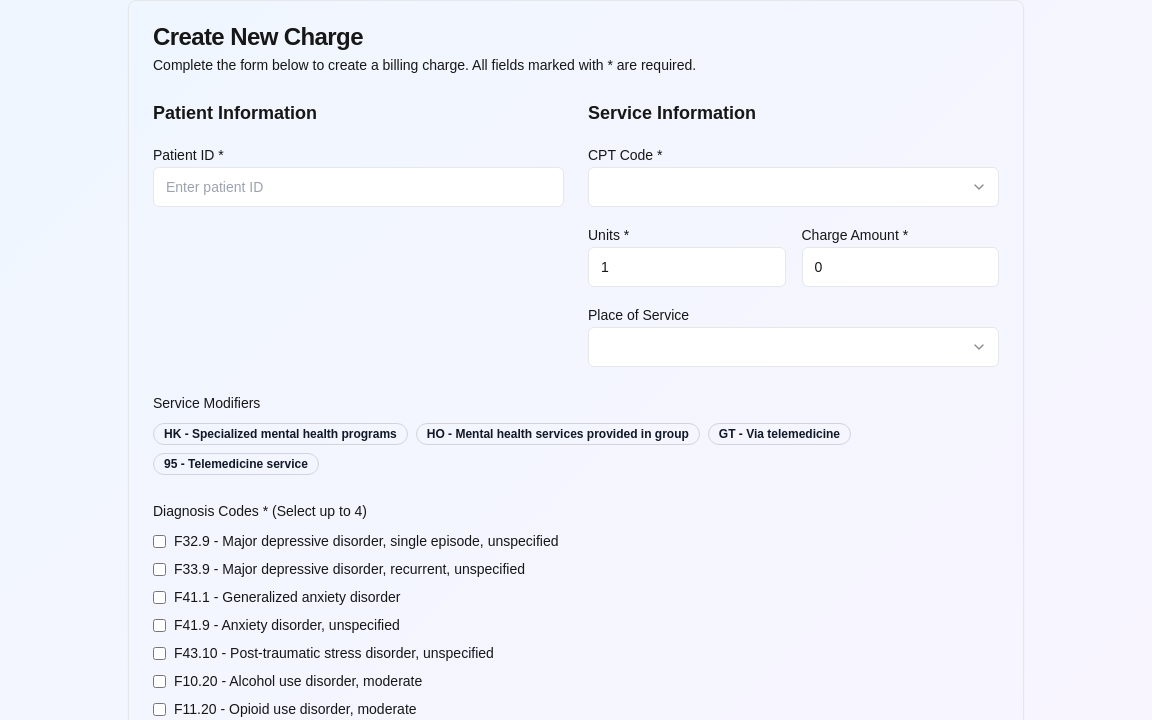
Scenario: ChargeForm › Form Interactions › limits diagnosis codes to maximum of 4
Click the checkbox labelled "F32.9". click: {"x": 160, "y": 542}
box: [153,535,166,548]
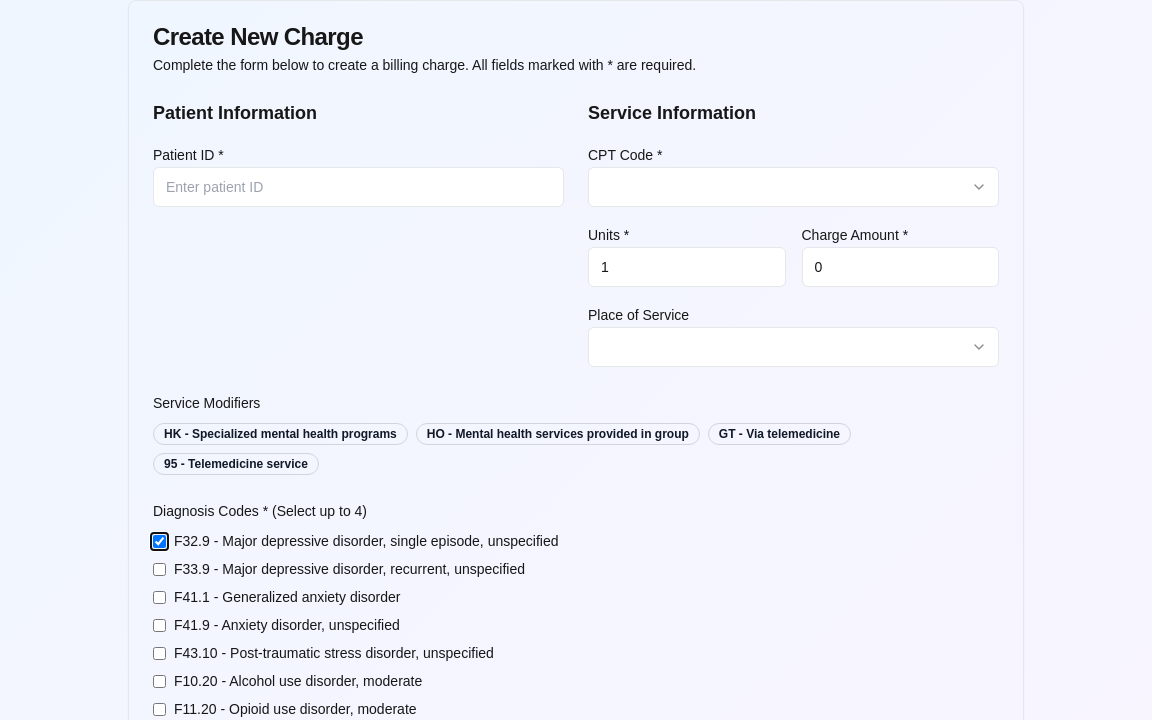
Click the checkbox labelled "F33.9 - Major depressive disorder, recurrent, unspecified". click: {"x": 160, "y": 570}
box: [153,563,166,576]
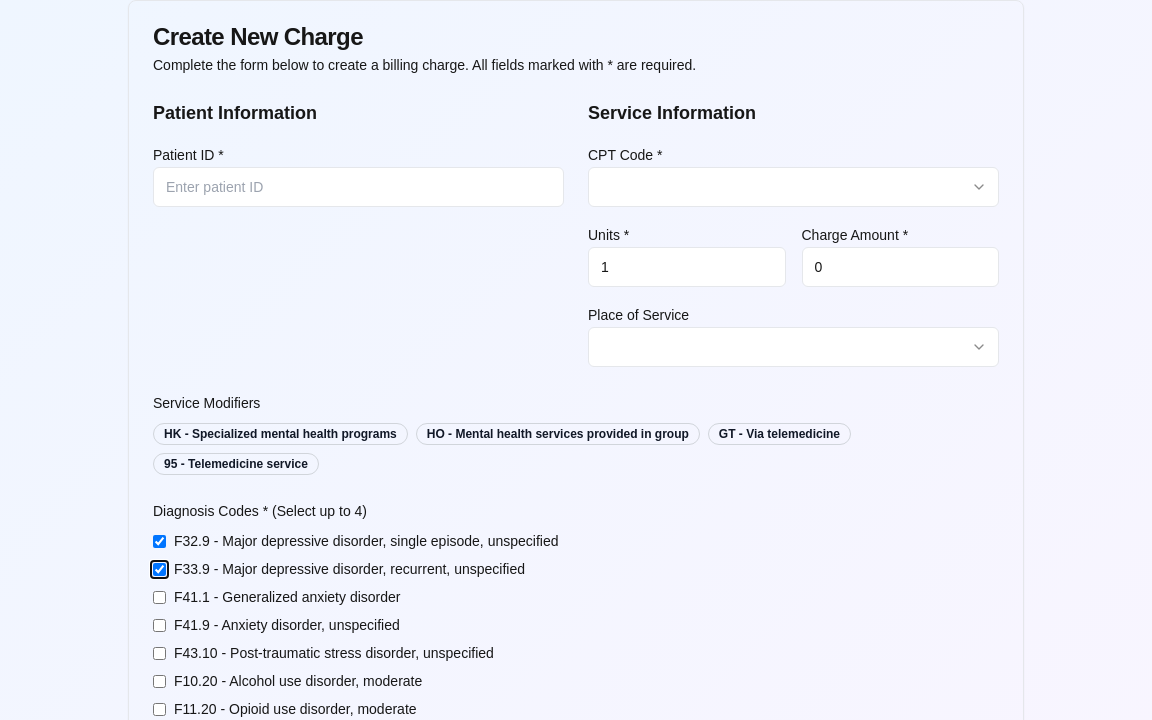
Click the checkbox labelled "F41.1 - Generalized anxiety disorder". click: {"x": 160, "y": 598}
box: [153,591,166,604]
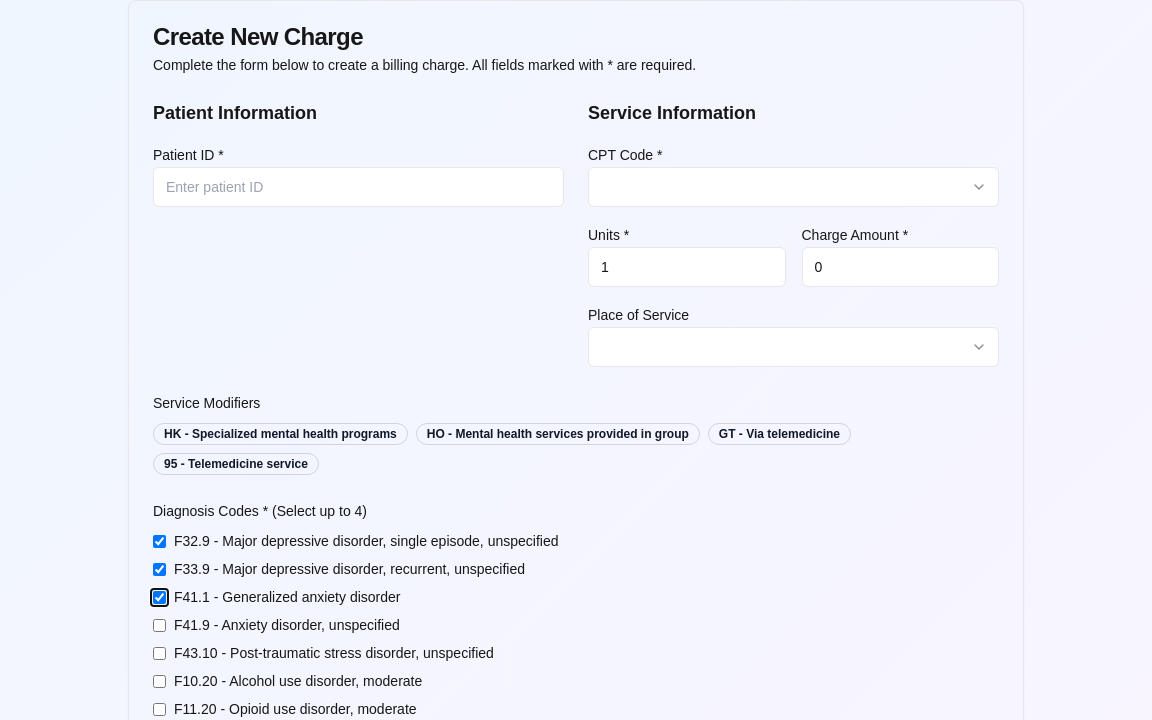
Click the checkbox labelled "F41.9 - Anxiety disorder, unspecified". click: {"x": 160, "y": 626}
box: [153,619,166,632]
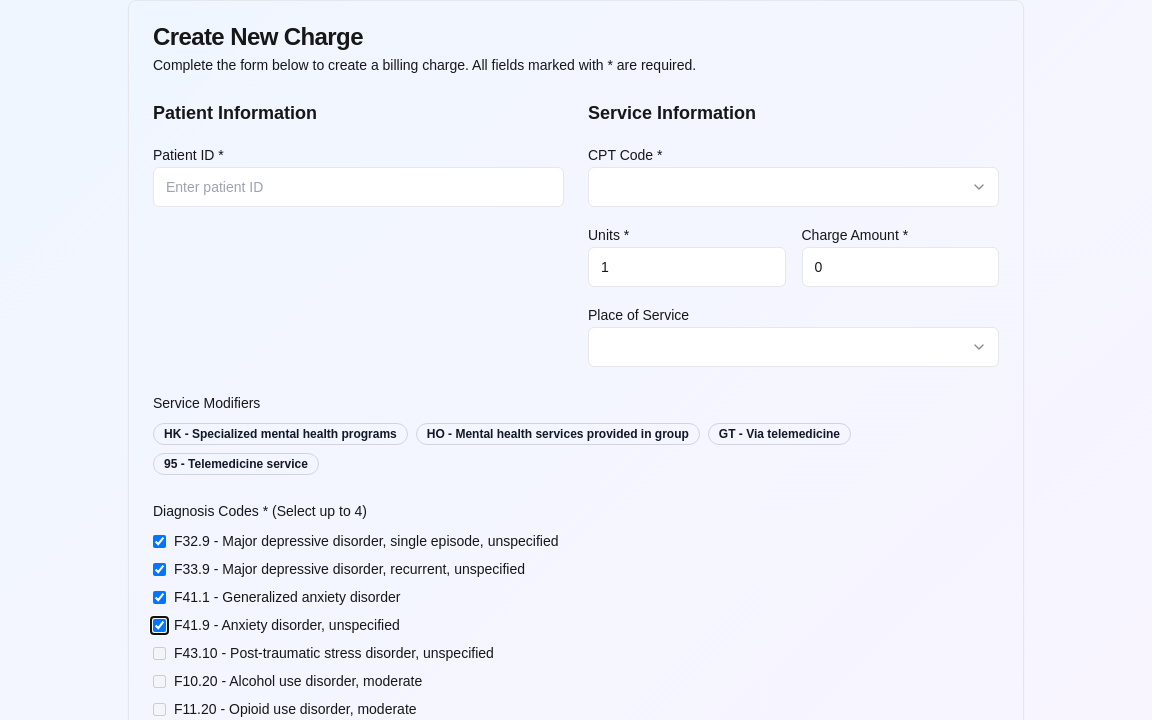
Now the checkbox labelled "F43.10 - Post-traumatic stress disorder, unspecified" is disabled, box [153,647,166,660]
